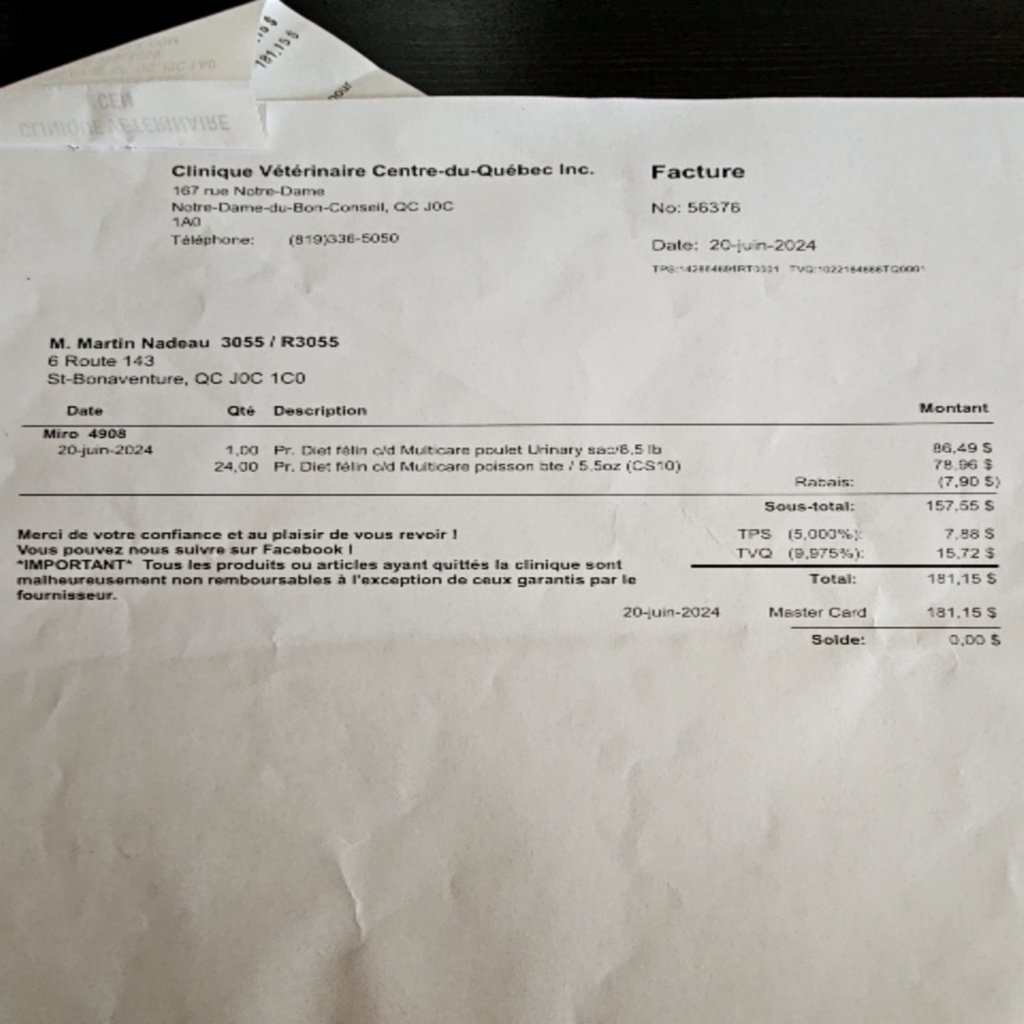recipt: (10, 147, 1014, 755)
